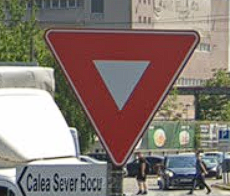cedeaza: (43, 26, 202, 168)
